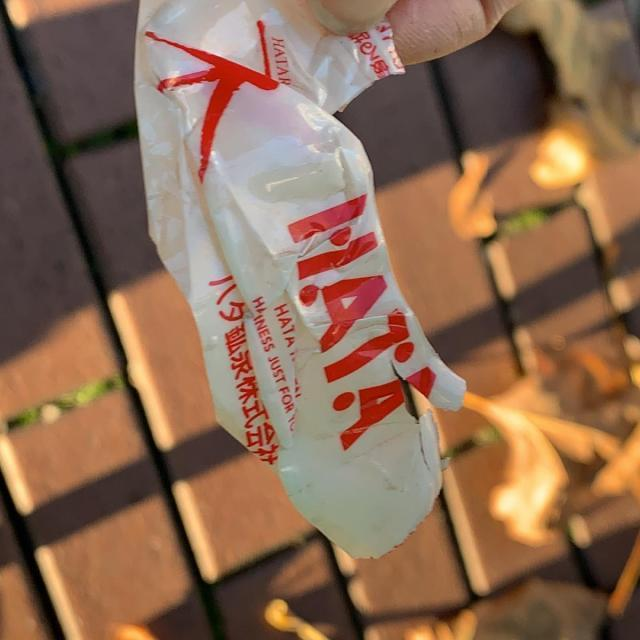Paper: (130, 0, 472, 568)
